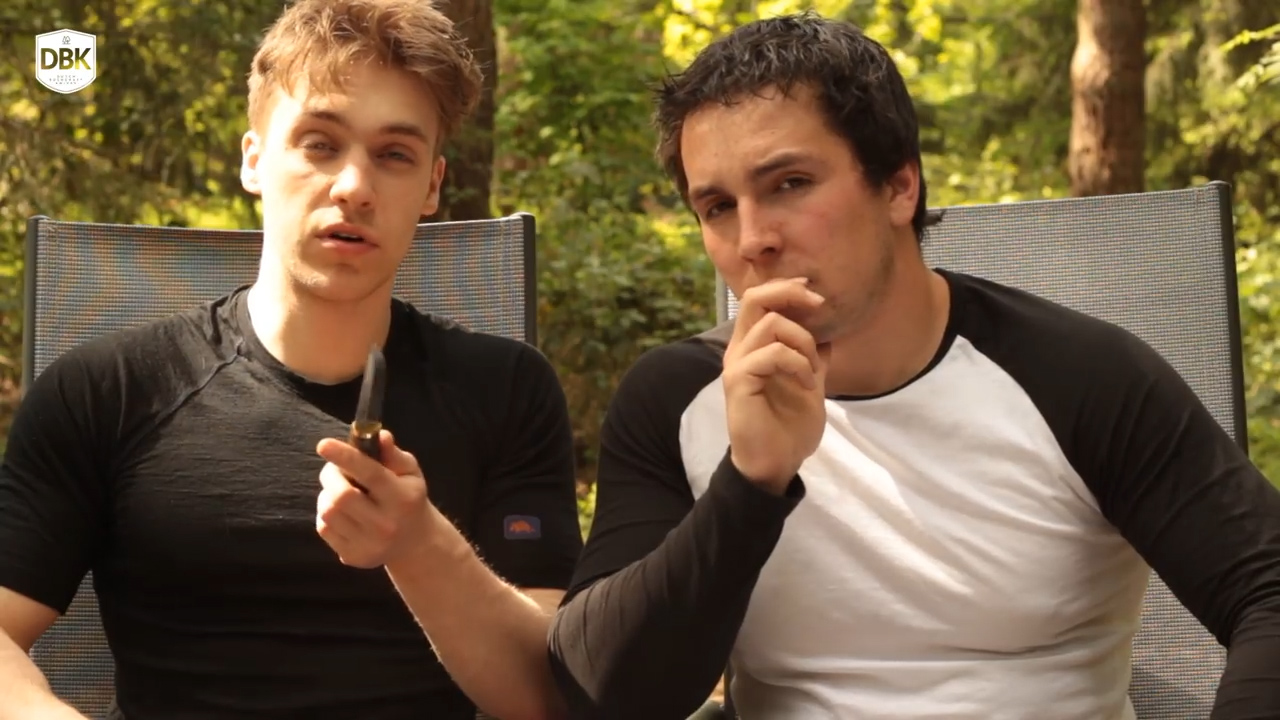knife: (302, 324, 430, 559)
